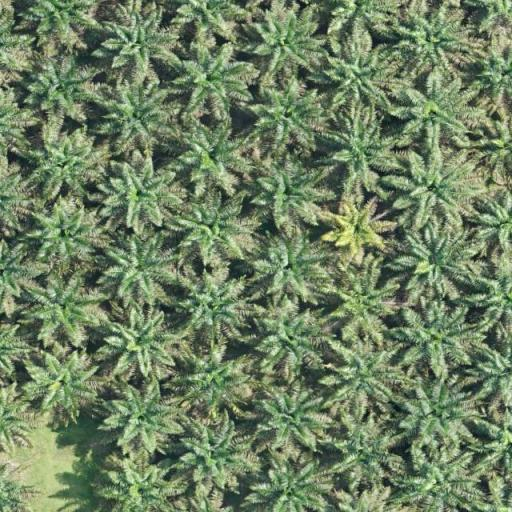Ganoderma: (335, 207, 379, 250)
